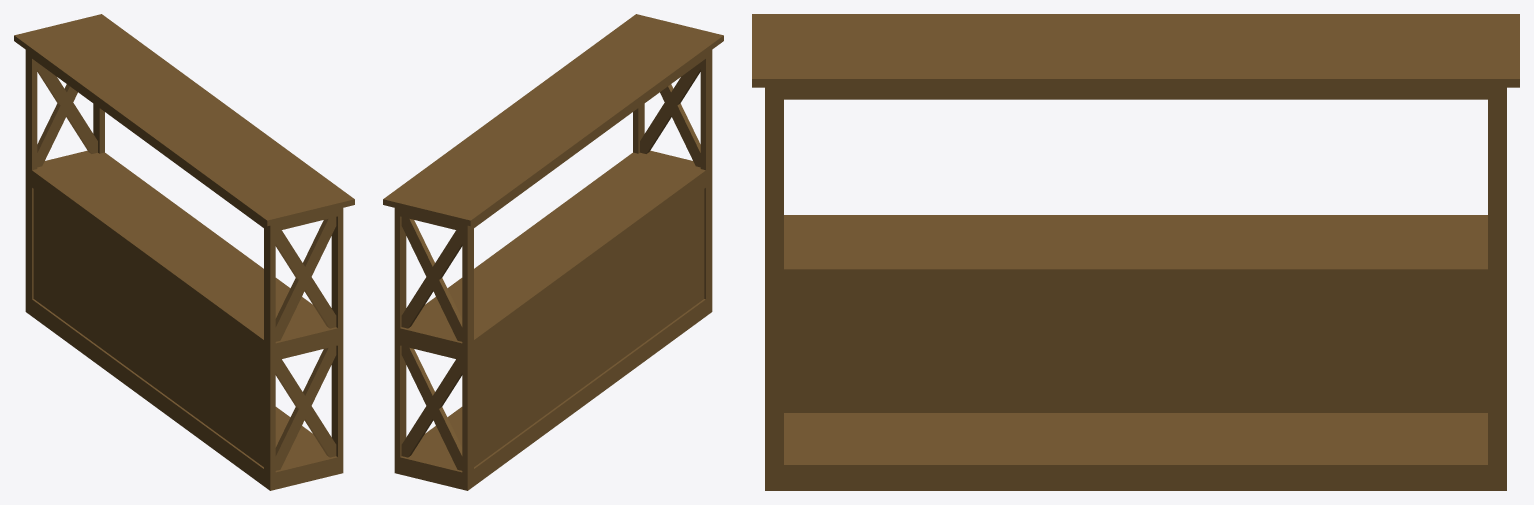
File: hallway_tumba.glb
3 renders of one model, left to right at view 1: azimuth 30°, elevation 25°; view 2: azimuth 150°, elevation 25°; view 3: azimuth 270°, elevation 25°, orthographic. The views are drawn at different scales.
Visible parts, largest first — view 1: Object_2; view 2: Object_2; view 3: Object_2.
Part boxes in pixels (x1,y1,x2,y2): Object_2: [14, 14, 354, 490]; Object_2: [383, 14, 723, 490]; Object_2: [752, 14, 1519, 490].
Size of the model in its own units: 12 by 36 by 60.
